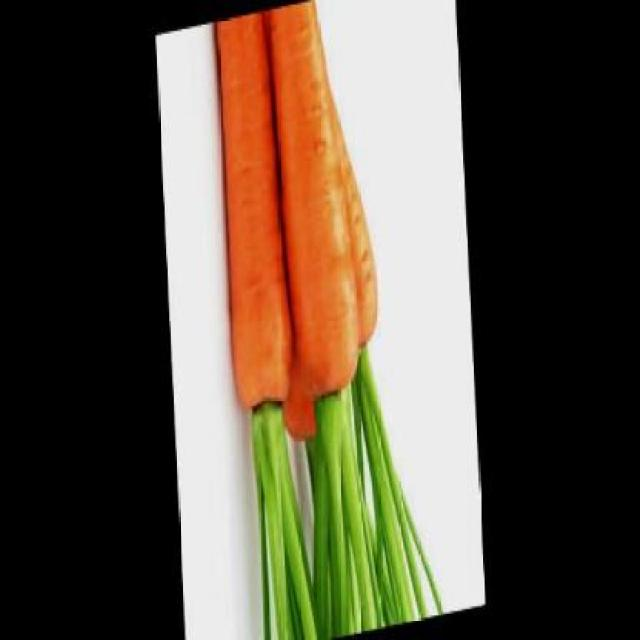carrot: (265, 0, 363, 402), (211, 7, 297, 415), (326, 68, 379, 352), (278, 345, 325, 446)
